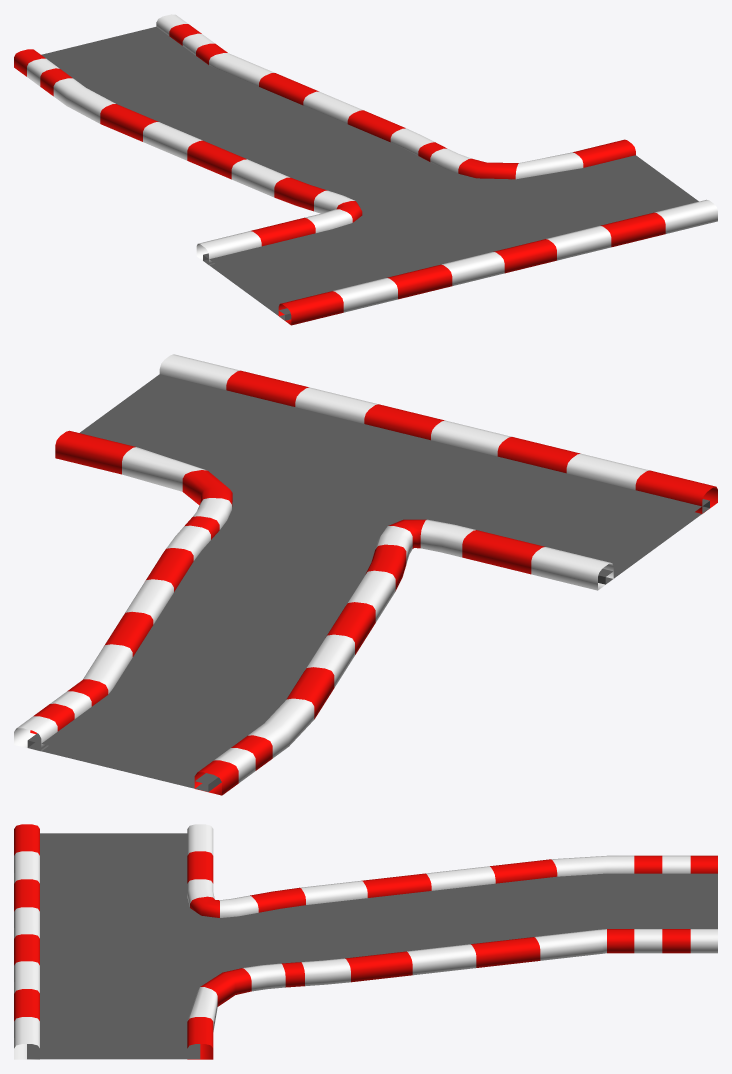
Rendered from TwoSidesTrack01.fbx.
3 renders of one model, top to bottom at view 1: azimuth 30°, elevation 25°; view 2: azimuth 150°, elevation 25°; view 3: azimuth 270°, elevation 25°, orthographic. The views are drawn at different scales.
Parts seen in each view (by area): view 1: TwoSidesTrack01; view 2: TwoSidesTrack01; view 3: TwoSidesTrack01.
Boxes of the visible parts, x1=… form: TwoSidesTrack01: x1=14, y1=14, x2=717, y2=325; TwoSidesTrack01: x1=14, y1=354, x2=717, y2=795; TwoSidesTrack01: x1=14, y1=824, x2=717, y2=1059.
Bounding box in the file's own units: 5400 × 178 × 7312.
